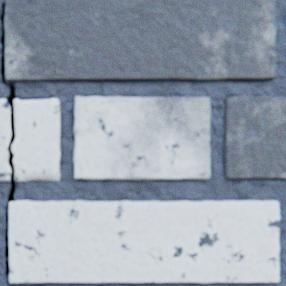brick: (4, 0, 274, 82), (9, 201, 278, 283), (73, 97, 209, 180), (222, 97, 285, 180)
broken_brick: (11, 99, 59, 181), (0, 100, 10, 181)
crack: (0, 1, 17, 284)
